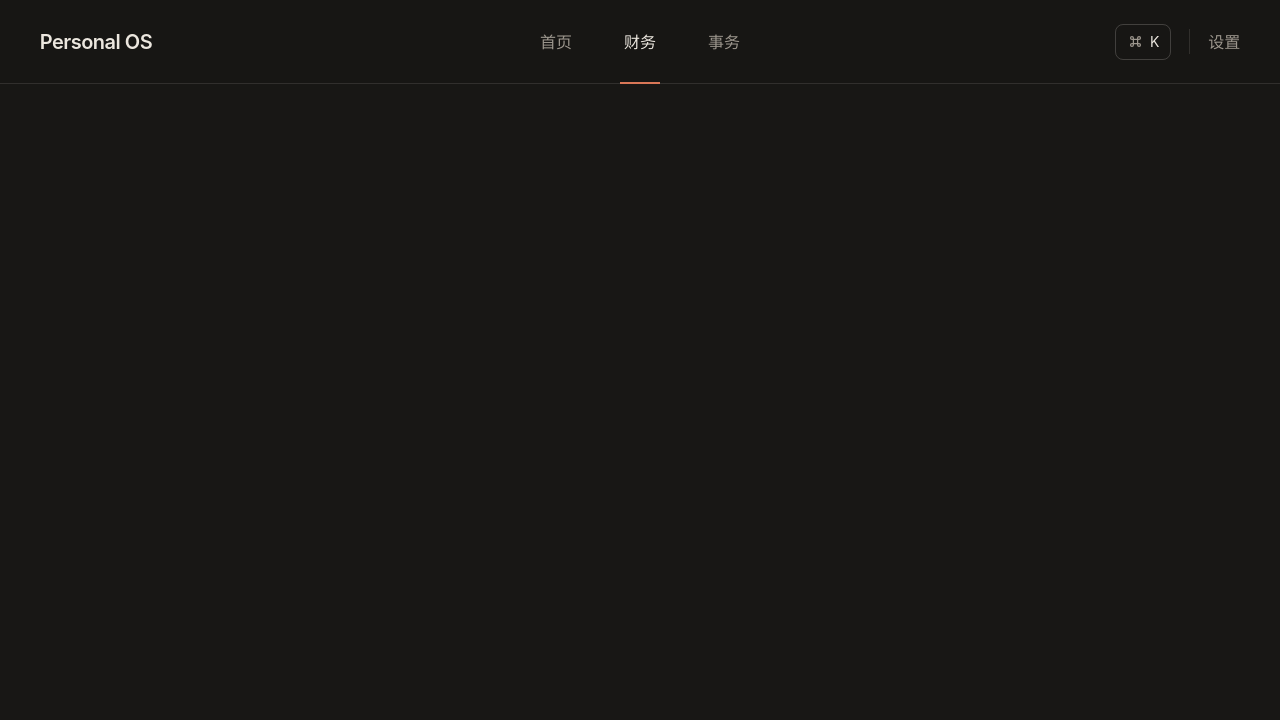
Scenario: AppHeader › opens and closes the keyboard command menu
Click the button named "打开命令菜单": (1143, 42) 1115,24 -> 1171,60
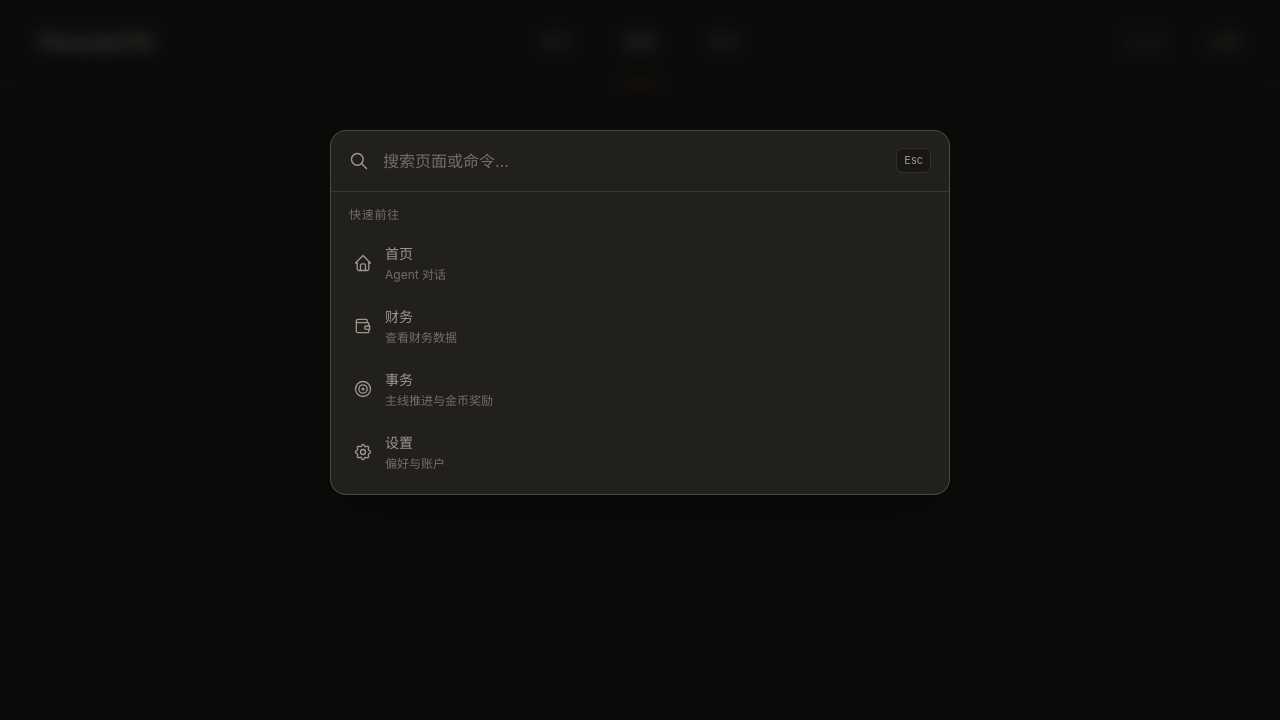
Now the dialog named "快速导航" is shown, box 330,130 -> 950,495
Press Escape
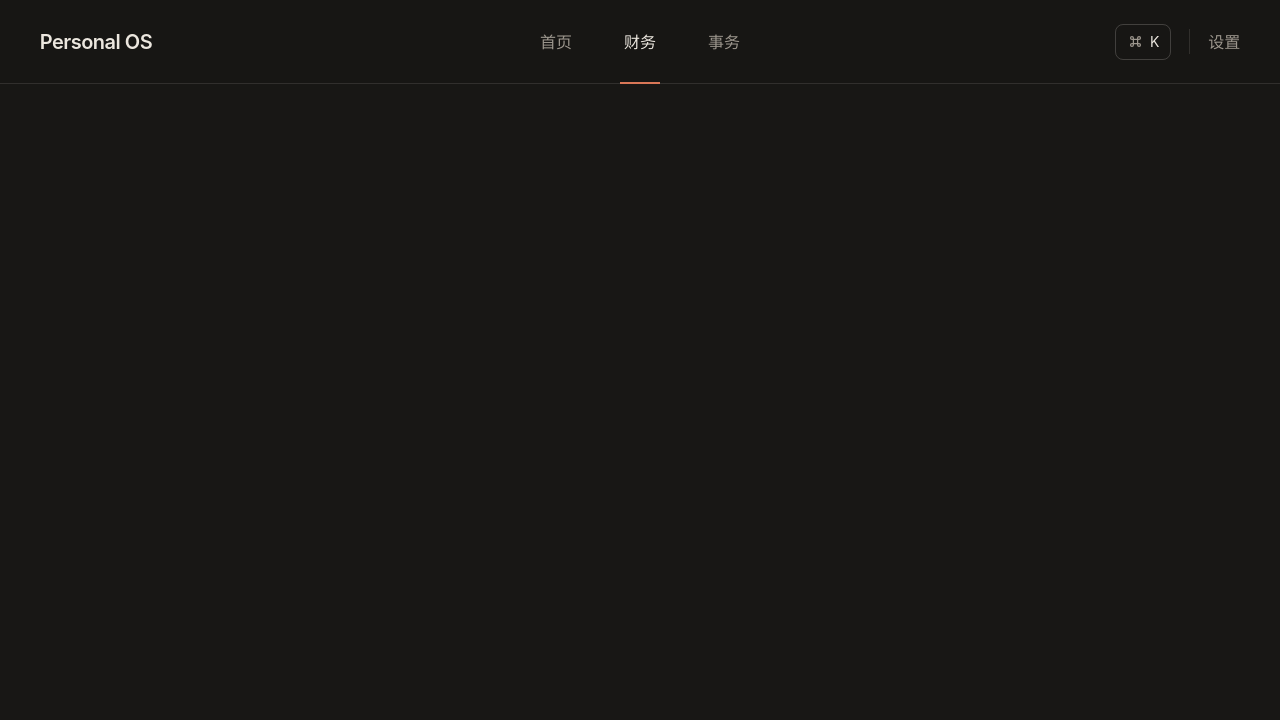
Now the dialog "快速导航" is gone
